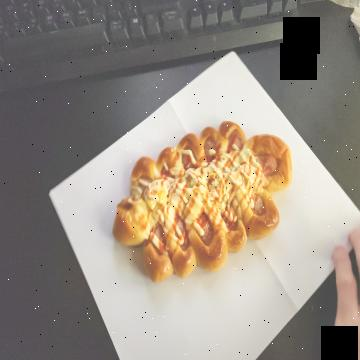pizza_bread: (110, 123, 292, 284)
